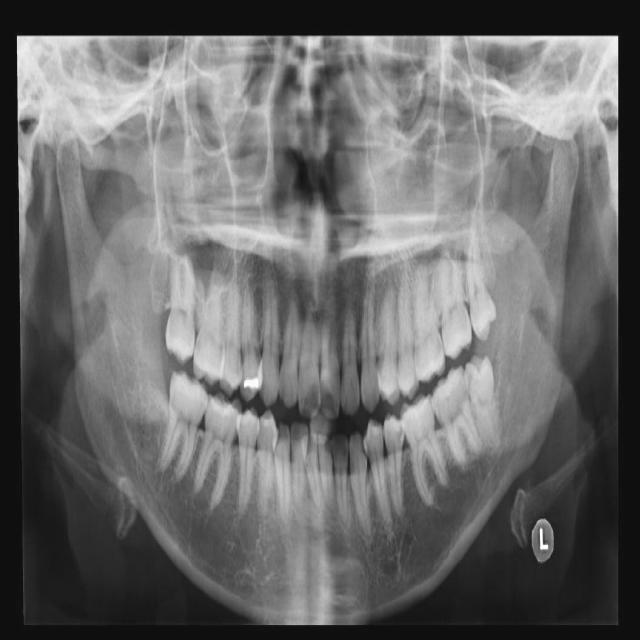Filling: (244, 373, 262, 390)
impacted tooth: (464, 227, 497, 340), (465, 356, 502, 449)
